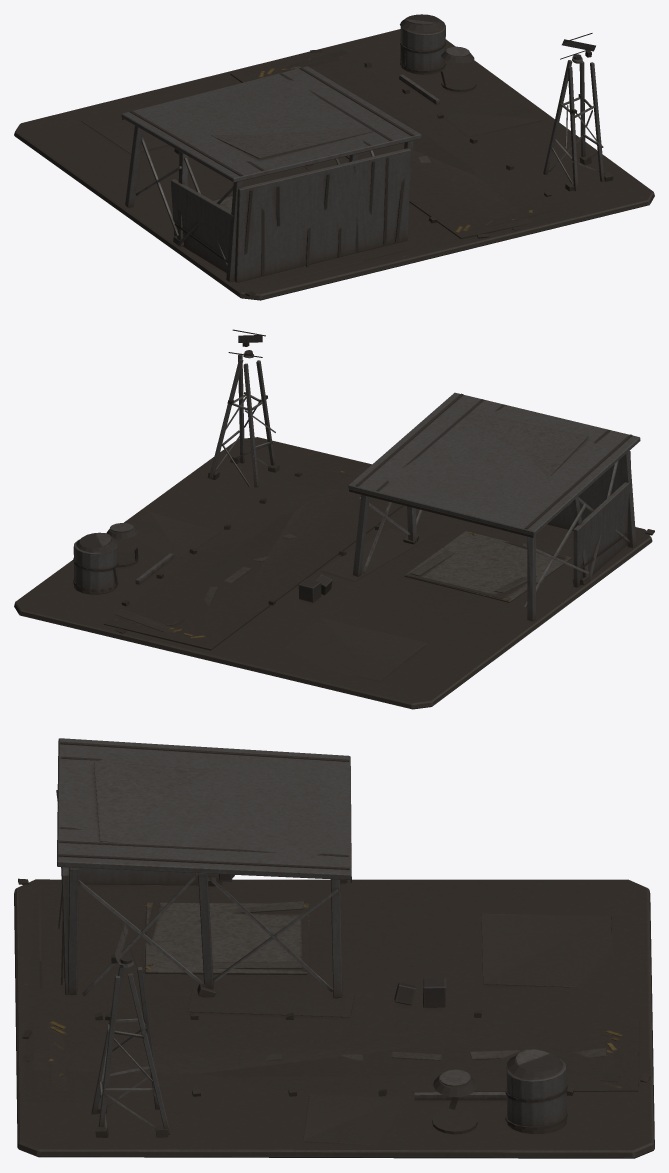
Rendered from chs_airfield_wreck.fbx.
3 views of the same model, one above another, from view 1: azimuth 30°, elevation 25°; view 2: azimuth 150°, elevation 25°; view 3: azimuth 270°, elevation 25° (orthographic). The views are drawn at different scales.
Parts seen in each view (by area): view 1: base_bar; view 2: base_bar; view 3: base_bar.
Part boxes in pixels (x1,y1,x2,y2): base_bar: (14, 14, 654, 300); base_bar: (14, 342, 654, 709); base_bar: (14, 738, 654, 1158).
Size of the model in its own units: 3949 by 1527 by 3918.
Materials: 2 (2 with a texture image).
